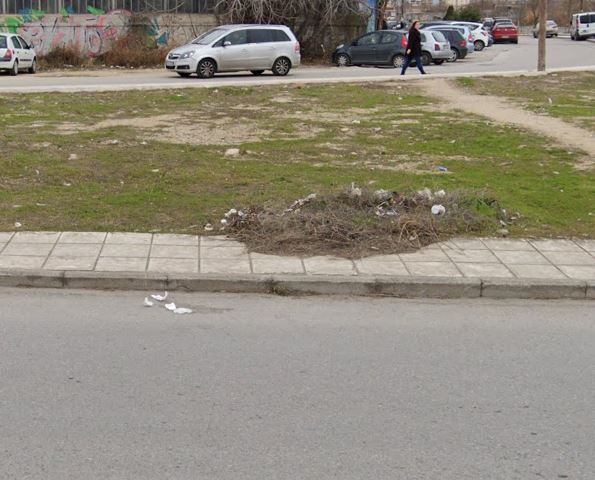trash: (371, 182, 455, 221), (198, 203, 252, 237), (140, 290, 196, 319)
